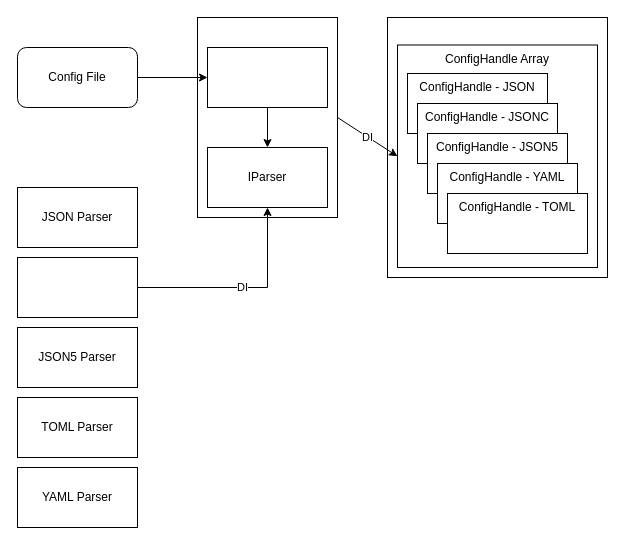
This 625x545 diagram has some shape labels left out. The box of each missing label's shape, as (x1, y1, x2, y2) in pixels:
ConfigHandle: (196, 16, 338, 218)
ConfigHandleContainer: (386, 16, 608, 278)
FileHandle: (206, 46, 328, 108)
JSONC Parser: (16, 256, 138, 318)
